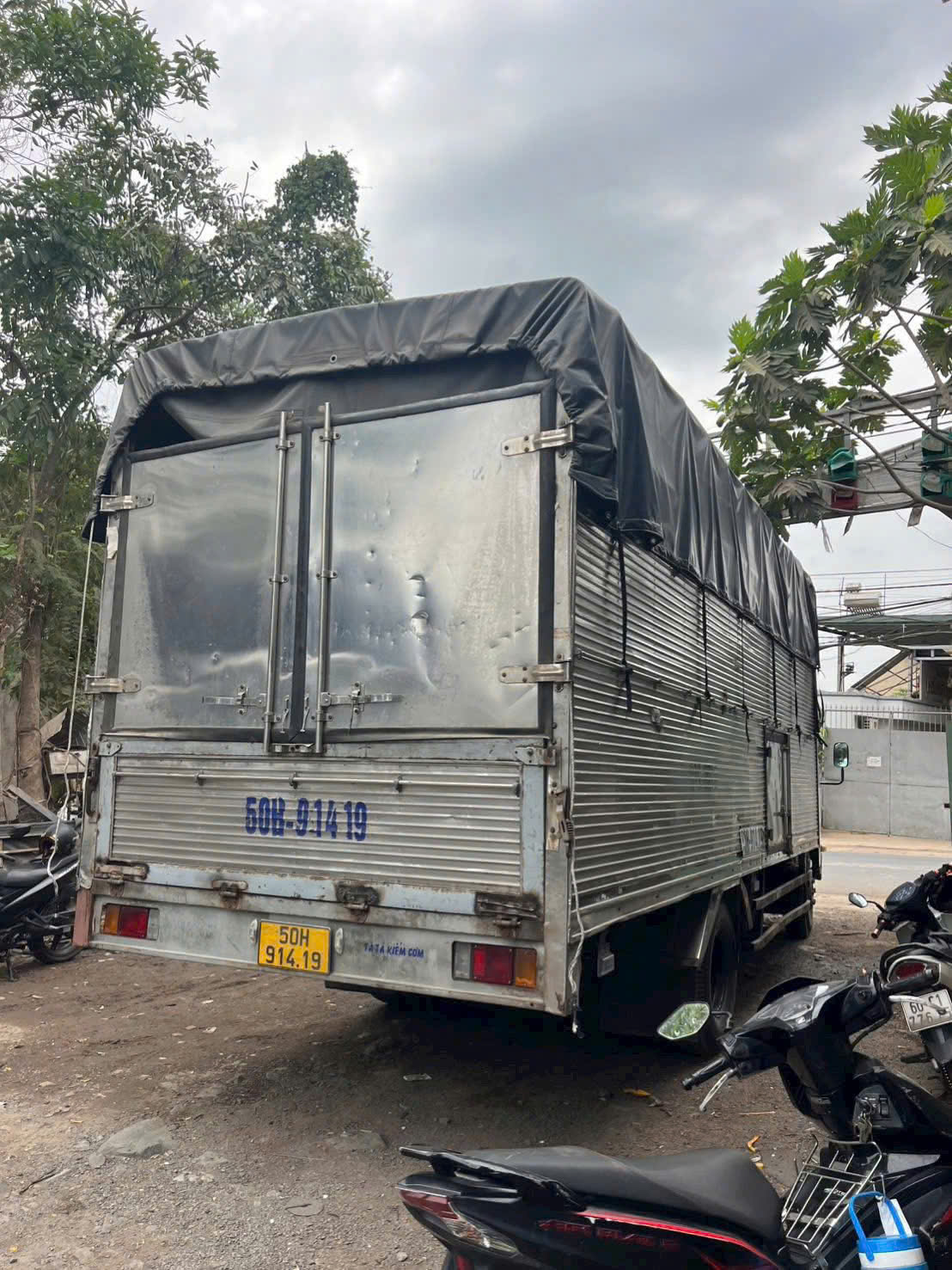Bien-so: (252, 918, 338, 974), (894, 989, 951, 1033)
